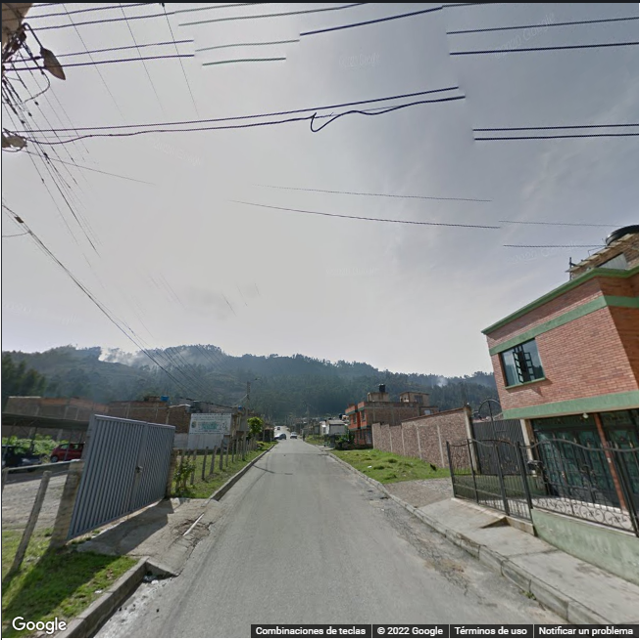D20: (378, 504, 472, 589)
